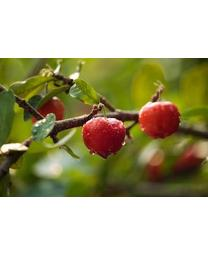cherry: (82, 118, 125, 157), (137, 101, 180, 139)
